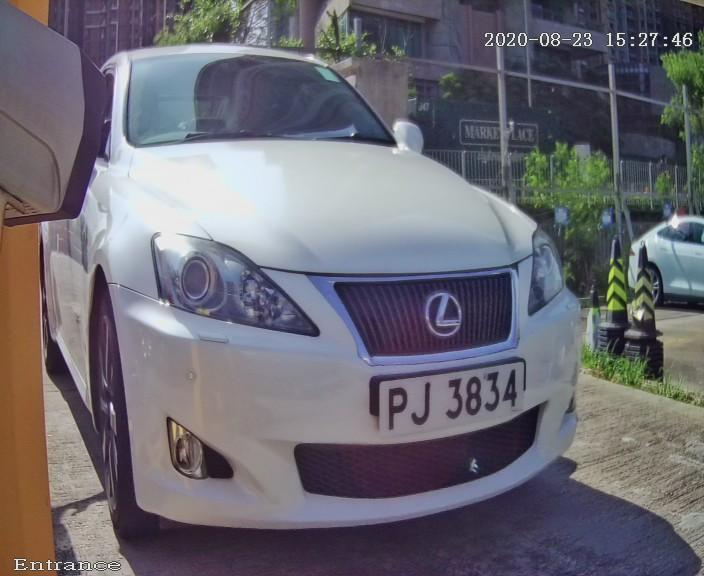Car: (26, 3, 620, 576)
License Plate: (342, 325, 551, 459)
